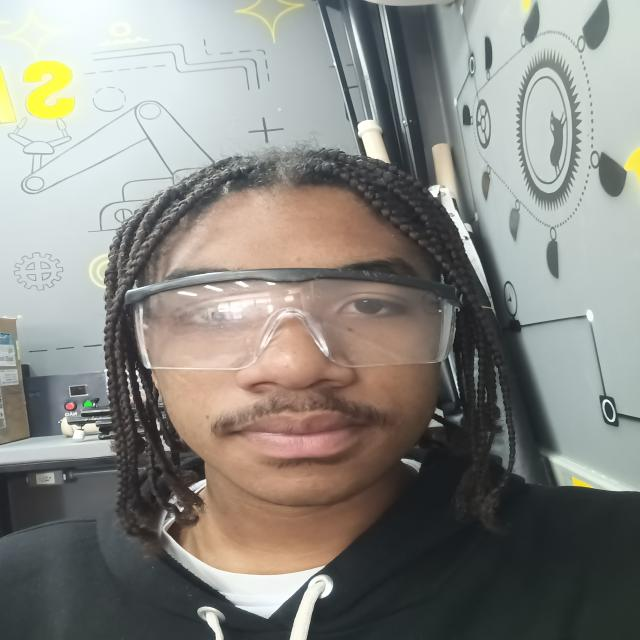oculos-epi: (127, 269, 459, 370)
